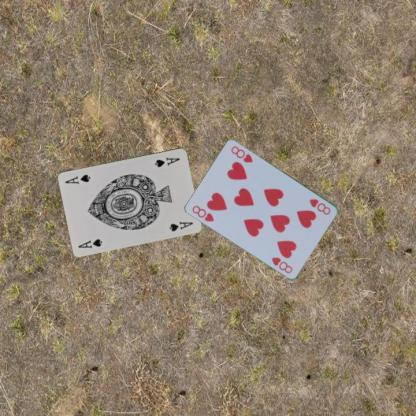8h: (190, 203, 216, 223), (307, 196, 332, 216)
As: (152, 154, 181, 168), (76, 236, 103, 249)
